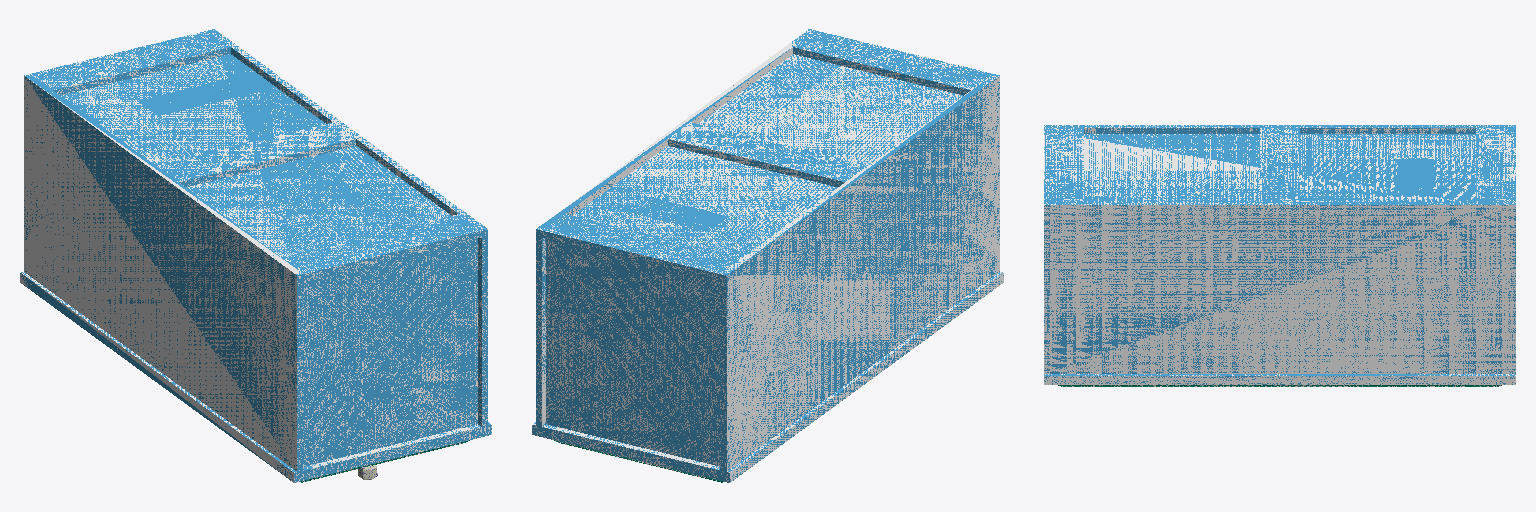
robot.urdf — right-pull-door:
<robot name="right-pull-door">
	<link name="base" />
	<link name="link_0">
		<visual name="out-frame">
			<origin xyz="0 0 0" />
			<geometry>
				<mesh filename="texture_dae/frame.dae" scale="0.8 0.8 0.8" />
			</geometry>
		</visual>
		<collision>
			<origin xyz="0 0 0" />
			<geometry>
				<mesh filename="texture_dae/frame.dae" scale="0.8 0.8 0.8" />
			</geometry>
		</collision>
	</link>
	<joint name="joint_0" type="fixed">
		<origin rpy="1.570796326794897 0 -1.570796326794897" xyz="0 0 0" />
		<child link="link_0" />
		<parent link="base" />
	</joint>
	<link name="link_1">
		<visual name="surf-board">
			<origin xyz="1.2991873741149904 -0.24684512019547472 0" />
			<geometry>
				<mesh filename="texture_dae/board.dae" scale="0.8 0.8 0.8" />
			</geometry>
		</visual>
		<collision>
			<origin xyz="1.2991873741149904 -0.24684512019547472 0" />
			<geometry>
				<mesh filename="texture_dae/board.dae" scale="0.8 0.8 0.8" />
			</geometry>
		</collision>
	</link>
	<joint name="joint_1" type="revolute">
		<origin xyz="-1.2991873741149904 0.24684512019547472 0" />
		<axis xyz="0 -1 0" />
		<child link="link_1" />
		<parent link="link_0" />
		<limit lower="0" upper="1.5079644737231006" />
	</joint>
	<link name="link_2">
		<visual name="handle">
			<origin xyz="0 0 0" />
			<geometry>
				<mesh filename="texture_dae/9962014.dae" scale="1.0253492902151484 1.0253492902151484 1.0253492902151484" />
			</geometry>
		</visual>
		<collision>
			<origin xyz="0 0 0" />
			<geometry>
				<mesh filename="texture_dae/9962014.dae" scale="1.0253492902151484 1.0253492902151484 1.0253492902151484" />
			</geometry>
		</collision>
	</link>
	<joint name="joint_2" type="revolute">
		<origin xyz="1.2991873741149904 -0.24684512019547472 0.015103076422149279" />
		<child link="link_2" />
		<parent link="link_1" />
		<axis xyz="0 0 1" />
		<limit lower="0" upper="0" />
	</joint>
</robot>

--- Render facts (derived) ---
3 views of the same robot in one strip: view 1: azimuth 30°, elevation 25°; view 2: azimuth 150°, elevation 25°; view 3: azimuth 270°, elevation 25° (orthographic).
Model right-pull-door with 4 links and 3 joints (2 revolute, 1 fixed), rooted at base, posed every joint at zero.
Links seen in each view (by area): view 1: link_0; view 2: link_0; view 3: link_0, link_1.
Boxes of the visible links, box(x1,y1,x2,y2) form: link_0: box(20, 29, 491, 482); link_0: box(532, 29, 1003, 482); link_0: box(1044, 125, 1515, 384); link_1: box(1058, 385, 1501, 386).
Bounding box of the posed robot: 0.5936 × 1.42 × 0.6725 m (x, y, z).
Meshes: 3 distinct files referenced, 3 mesh visuals loaded (3 Collada DAE).
